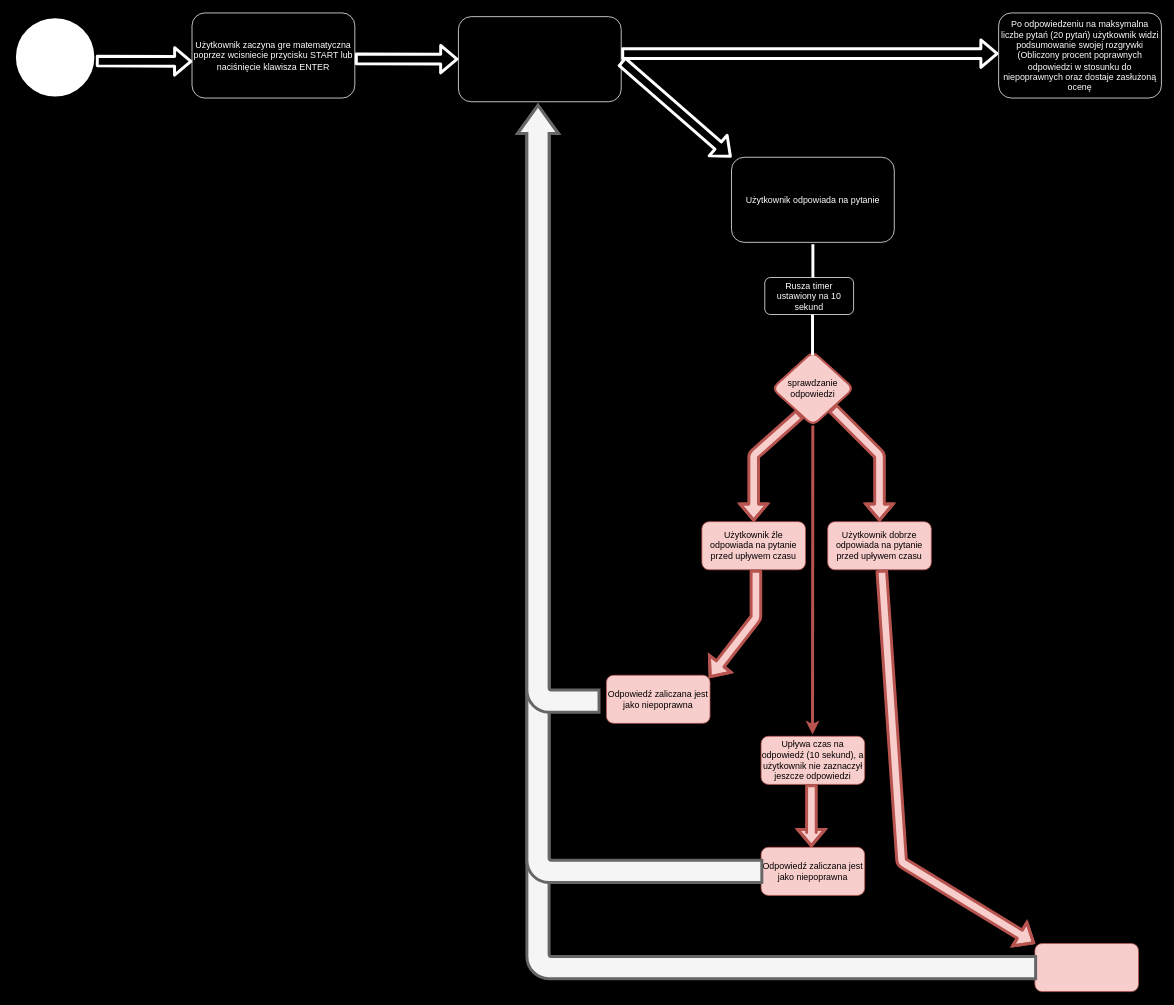
Some shapes in this 1174 by 1005 pixel diagram are drawn without their labels. The shapes that lost their labels are listed below. From the top down, each one's centre as x and y in pixels, then its label:
the point at 55,57: Użytkownik wchodzi na strone początkową
the point at 539,59: Losowane jest pytanie
the point at 1086,967: Odpowiedź zaliczana jest jako poprawna
